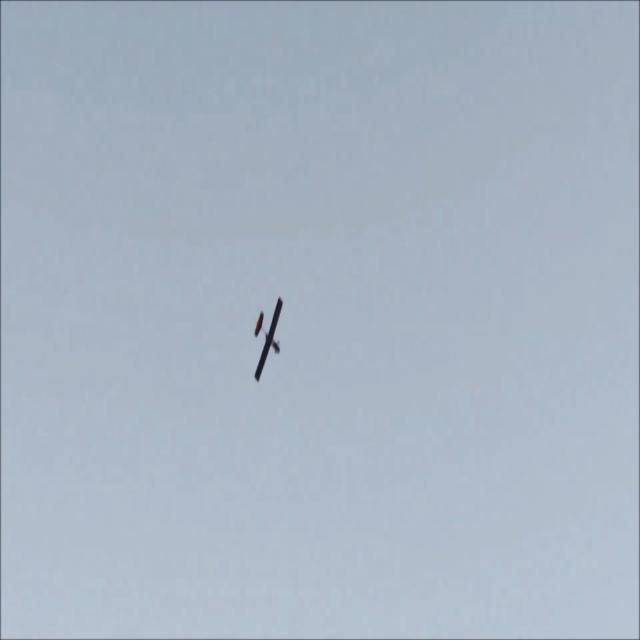plane: (252, 295, 283, 382)
